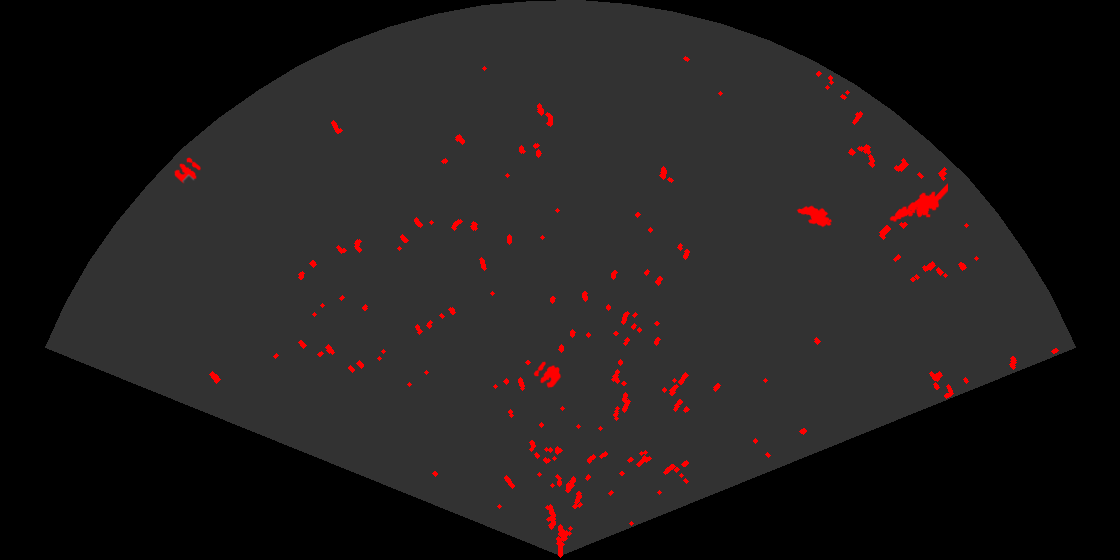AUV: (795, 204, 834, 229)
ball: (532, 360, 563, 390), (173, 156, 202, 185)
frogman: (888, 182, 948, 224)
